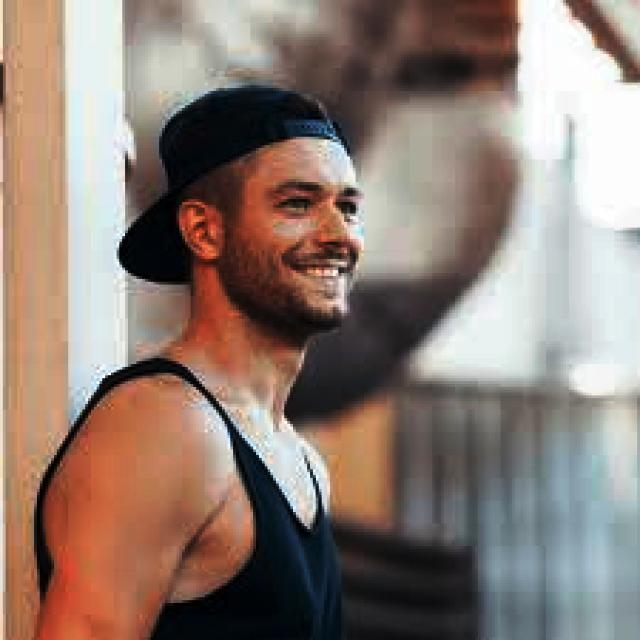TOPI: (111, 80, 355, 296)
